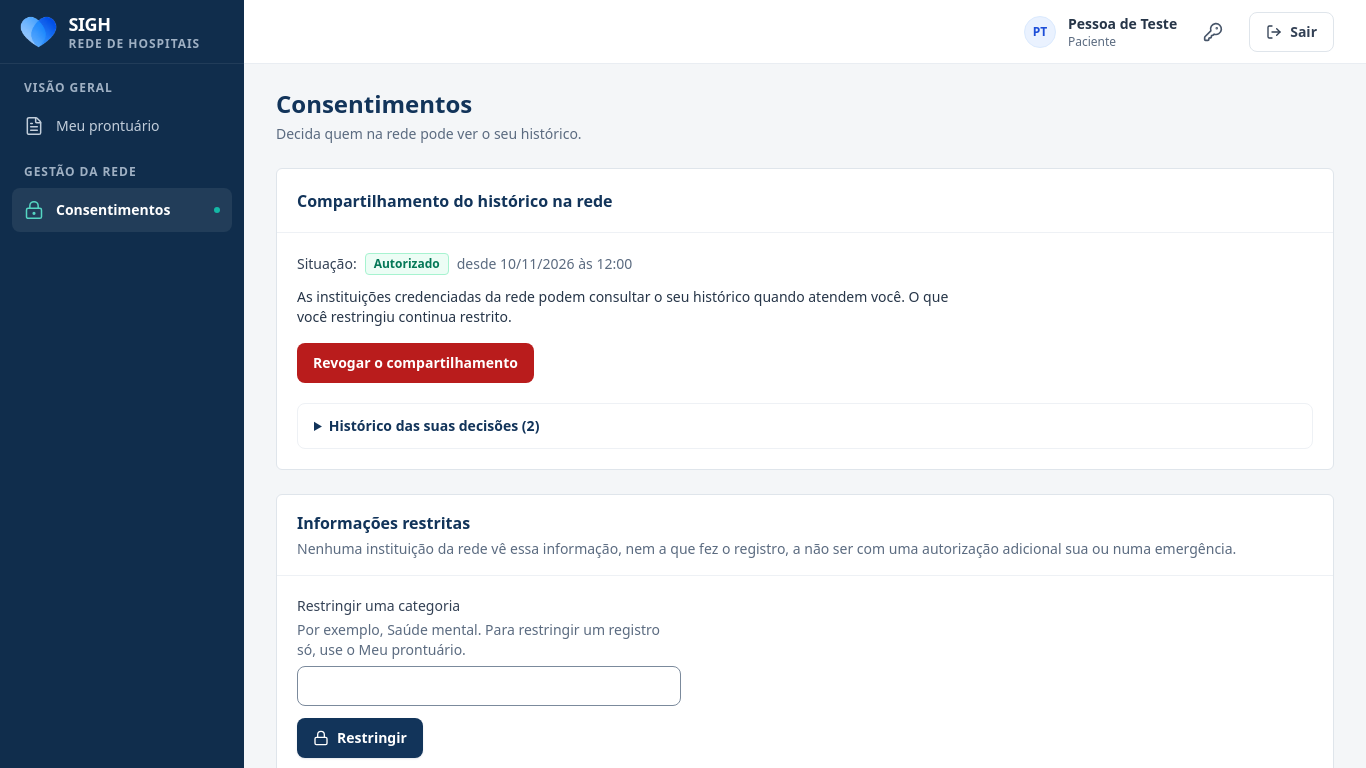
Test: FE-05: Consentimentos — compartilhamento na rede (RF-002, RN-007) › autorizado: mostra a situação e, ao revogar, explica o efeito antes de confirmar
expect the heading "Consentimentos" is shown: met, box [276,87,472,120]
expect the text "Autorizado" is shown: met, box [365,253,449,275]
Click the button "Revogar o compartilhamento": click(416, 363) [297,343,534,383]
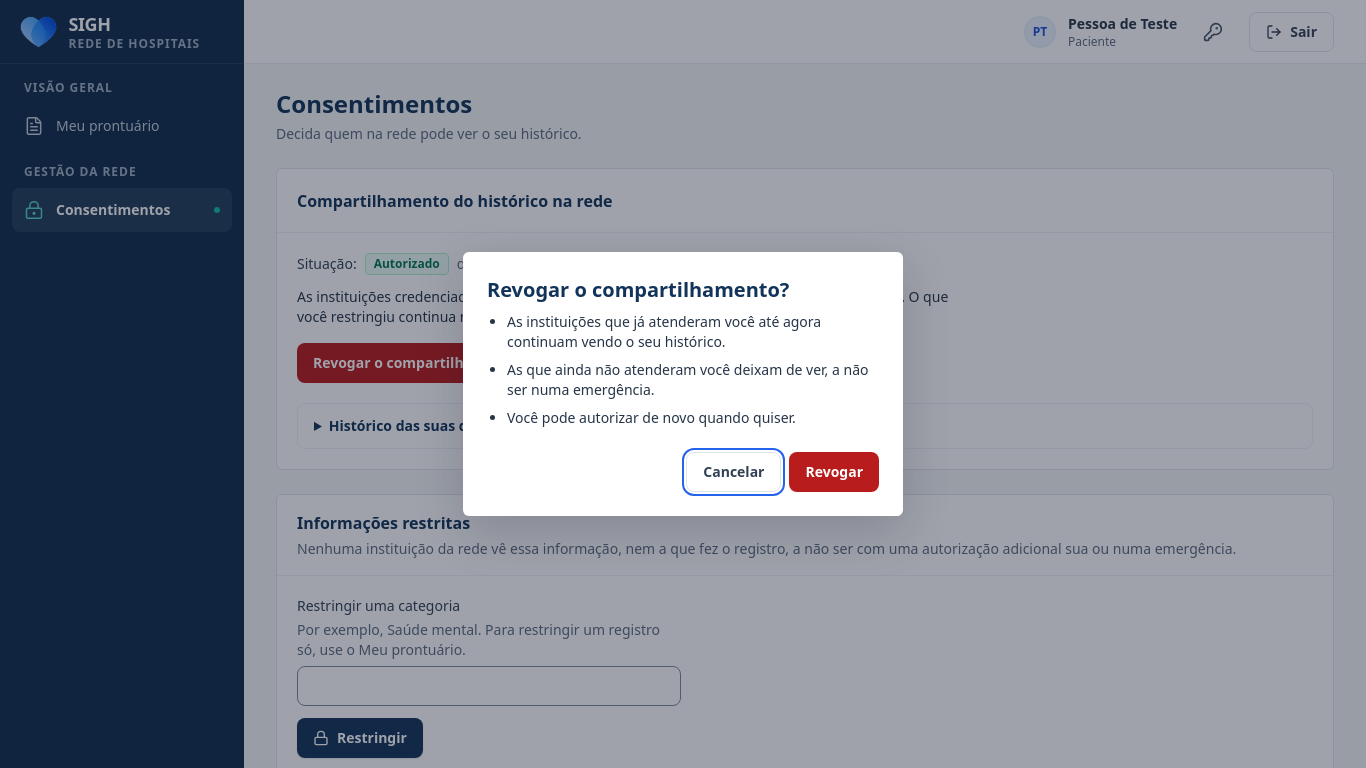
expect the dialog "Revogar o compartilhamento?" shows "As instituições que já atenderam você até agora continuam vendo o seu histórico.": met, box [507,312,821,351]
expect the dialog "Revogar o compartilhamento?" shows "As que ainda não atenderam você deixam de ver, a não ser numa emergência.": met, box [507,360,868,399]
expect the dialog "Revogar o compartilhamento?" shows "Você pode autorizar de novo quando quiser.": met, box [507,408,796,427]
Click the button "Revogar": click(834, 472) [790,452,879,492]
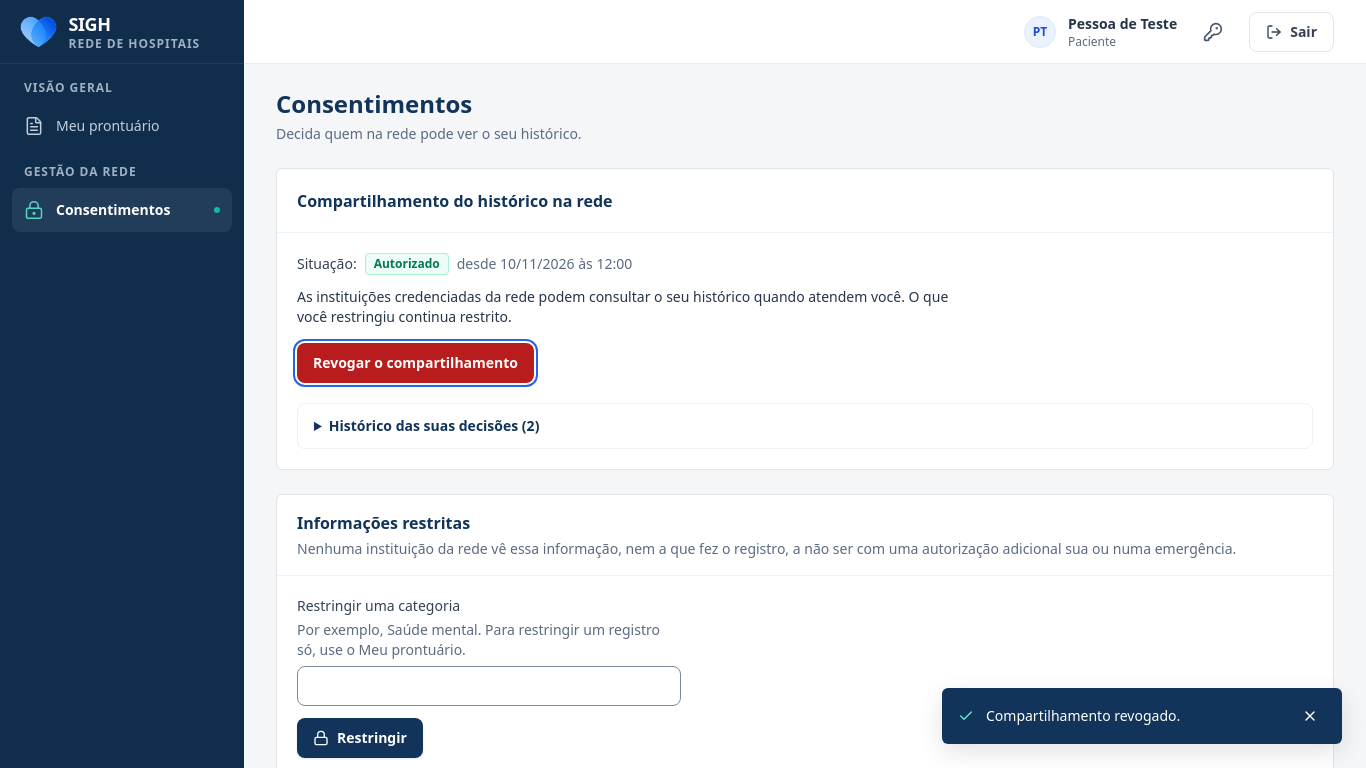
expect the text "Compartilhamento revogado." is shown: met, box [986,706,1180,725]
